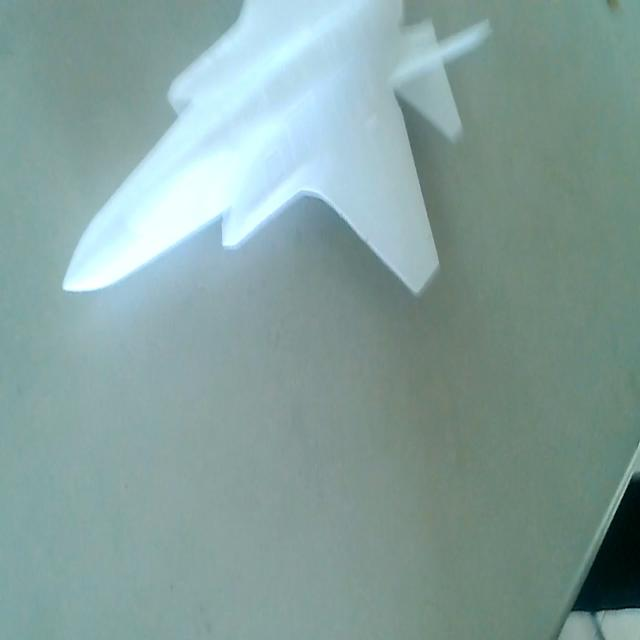Jet: (56, 1, 495, 318)
